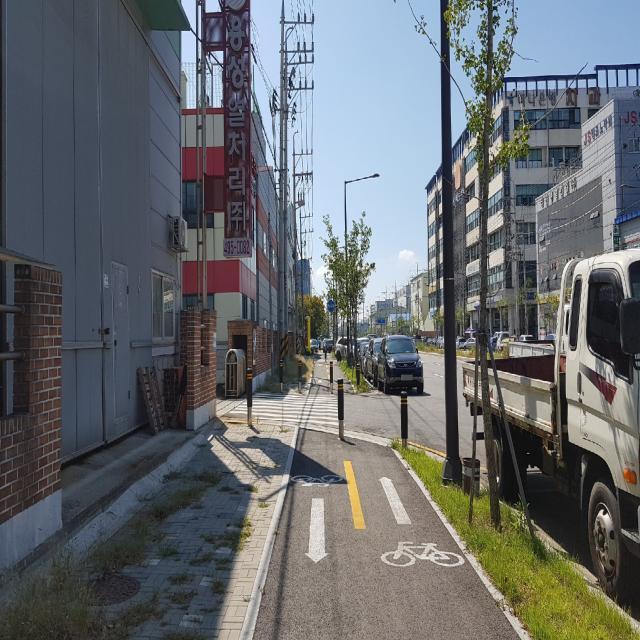횡단보도: (229, 393, 345, 427)
